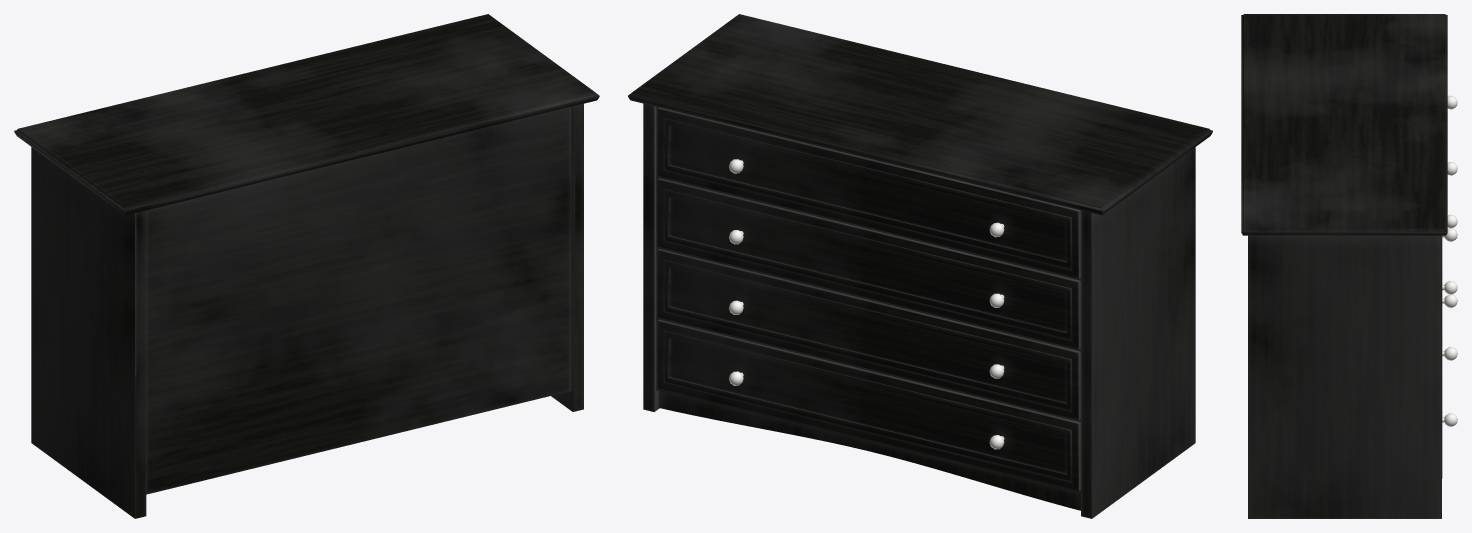
File: bedroom_dresser.fbx
3 views of the same model, side by side, from view 1: azimuth 30°, elevation 25°; view 2: azimuth 150°, elevation 25°; view 3: azimuth 270°, elevation 25° (orthographic). The views are drawn at different scales.
Visible parts, largest first — view 1: Cylinder.001; view 2: Cylinder.001; view 3: Cylinder.001.
Boxes of the visible parts, x1,y1,x2,y2 form: Cylinder.001: (14, 14, 599, 518); Cylinder.001: (628, 14, 1212, 518); Cylinder.001: (1241, 14, 1457, 518).
Bounding box in the file's own units: 128 × 81.28 × 53.94.
